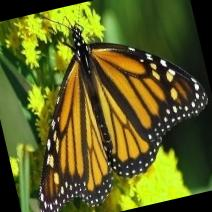butterfly: (40, 28, 210, 212)
